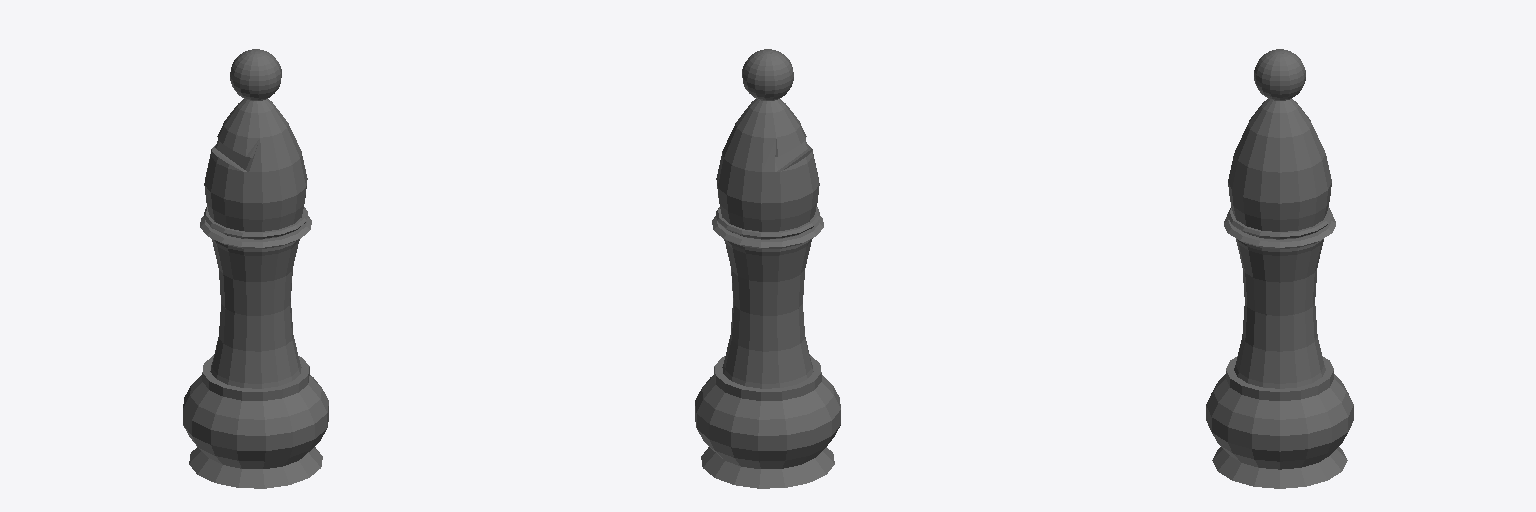
The model's file is bishop_white.obj.
3 views of the same model, side by side, from view 1: azimuth 30°, elevation 25°; view 2: azimuth 150°, elevation 25°; view 3: azimuth 270°, elevation 25° (orthographic).
Visible parts, largest first — view 1: bishop.001; view 2: bishop.001; view 3: bishop.001.
Boxes of the visible parts, <box> form: bishop.001: <box>183,49,328,488</box>; bishop.001: <box>695,49,840,488</box>; bishop.001: <box>1206,49,1353,488</box>.
Bounding box in the file's own units: 1.18 × 3.6 × 1.18.